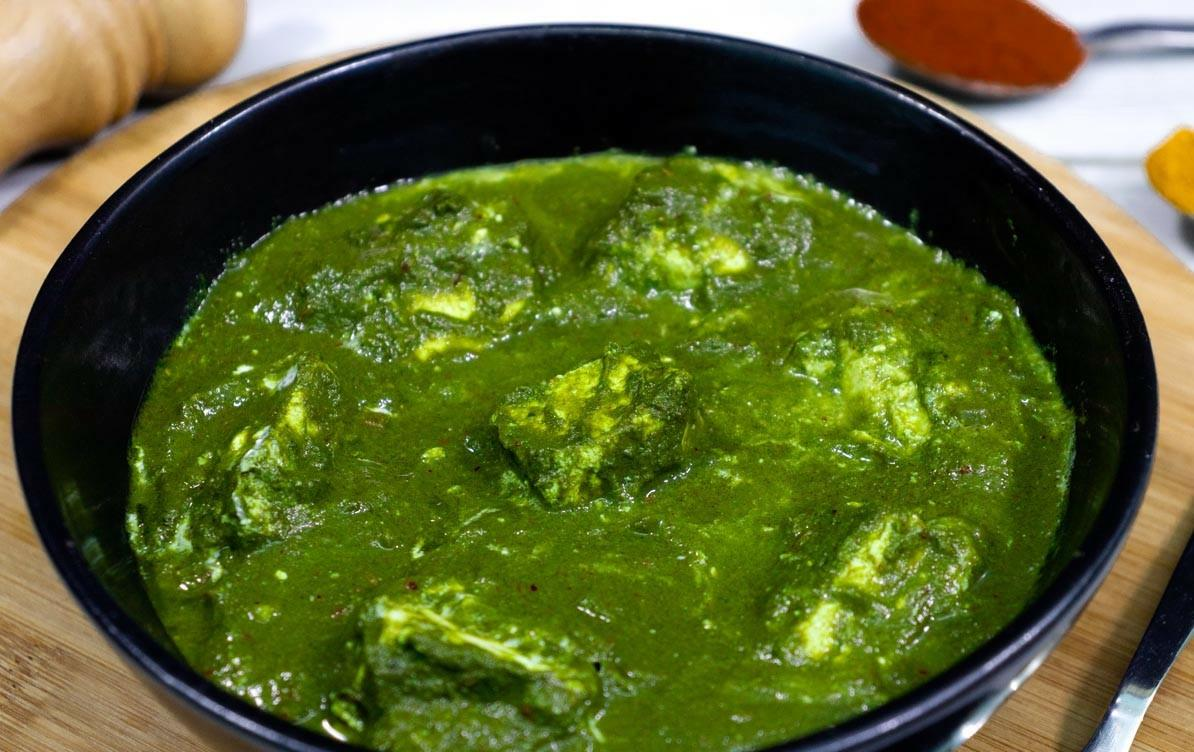PalakPaneer: (122, 142, 1072, 752)
